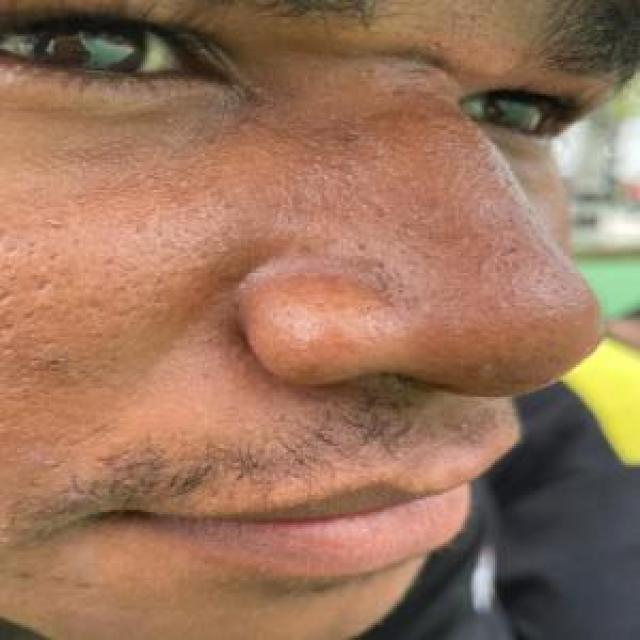Oily-Skin: (239, 61, 592, 410)
